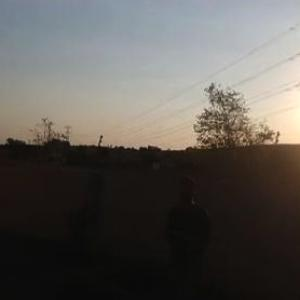follow: (155, 174, 215, 299)
